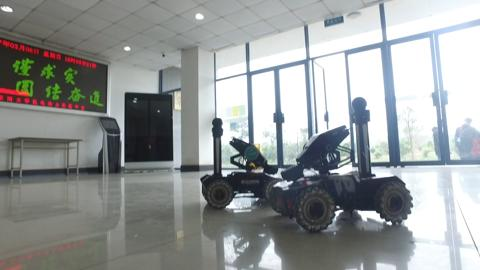chariot: (270, 97, 415, 236), (191, 114, 297, 210)
